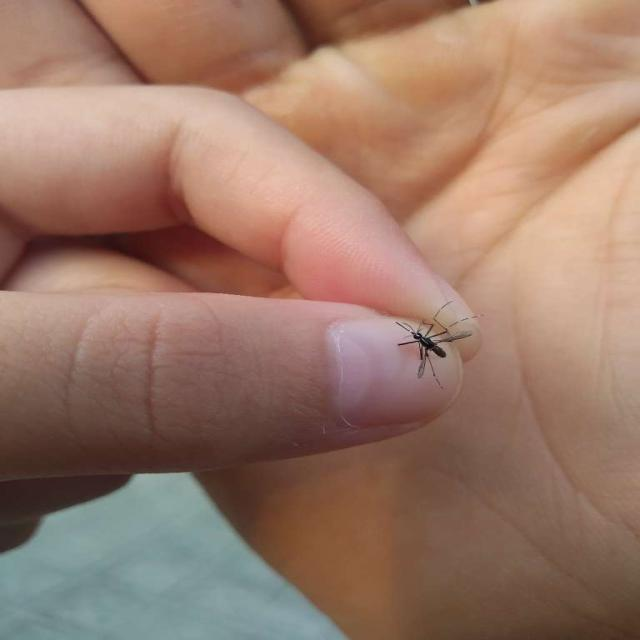albopictus: (383, 292, 481, 387)
